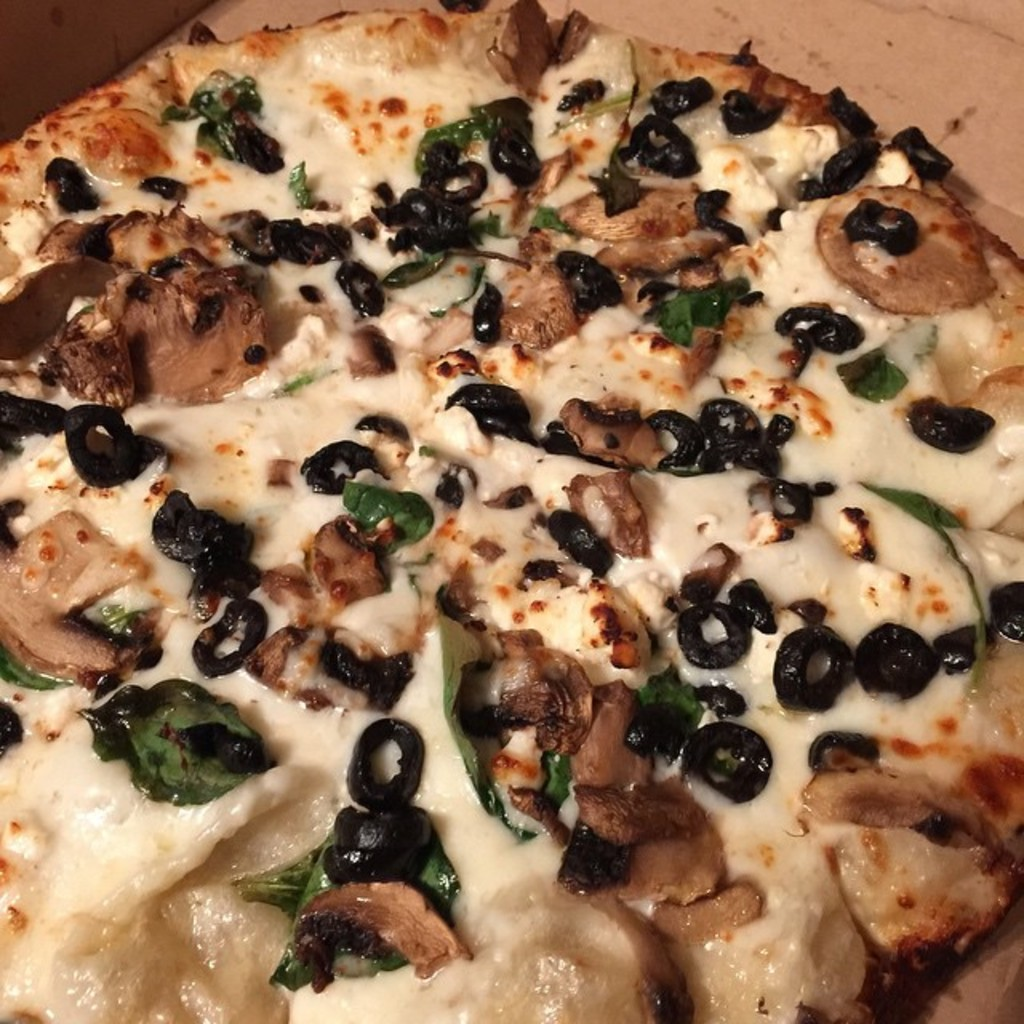Pizza: (0, 0, 1024, 1022)
